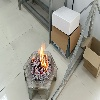fire: (38, 41, 48, 72), (31, 55, 34, 62)
